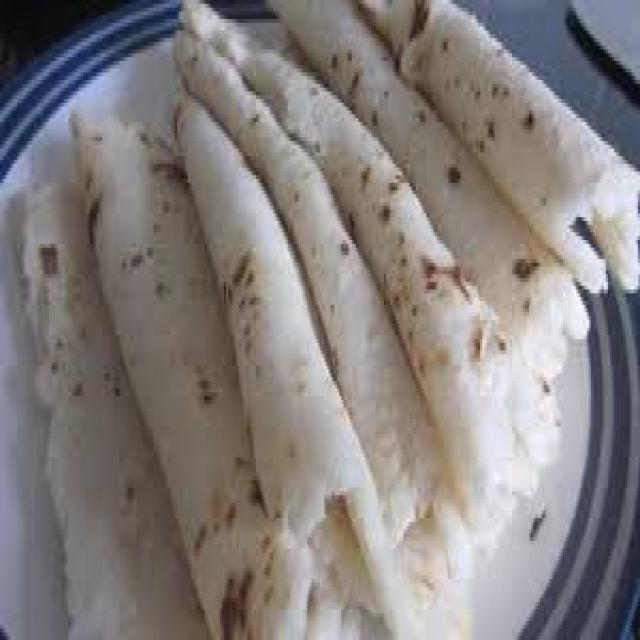RICE BHAKRI: (5, 0, 638, 636)
